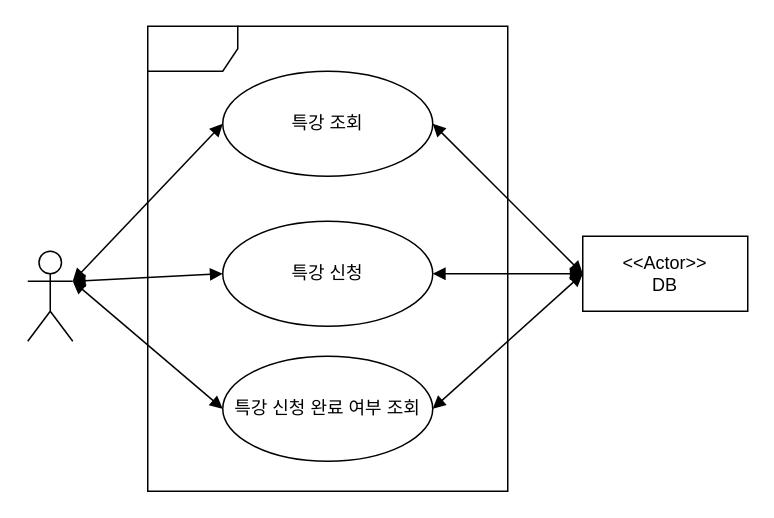
This 774x518 diagram has some shape labels left out. Each missing label, with the centre of its shape:
사용자: point (49, 295)
특강 서비스: point (327, 258)
